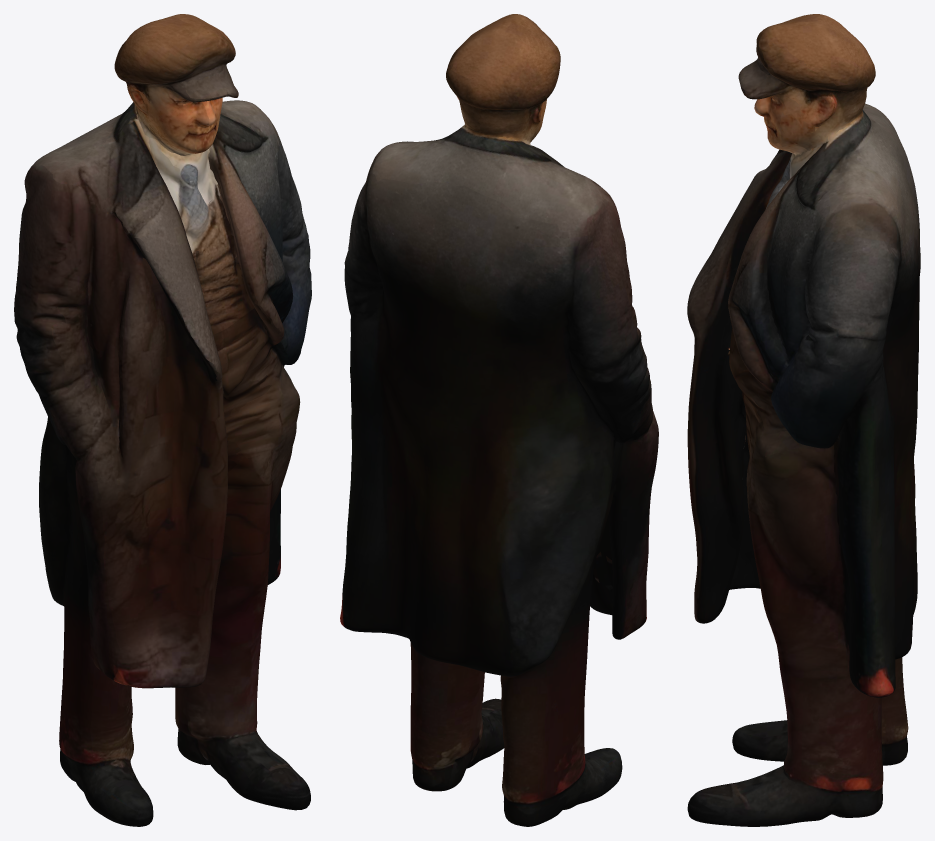
The model's file is Lenin-BLG_OMqb.glb.
3 views of the same model, side by side, from view 1: azimuth 30°, elevation 25°; view 2: azimuth 150°, elevation 25°; view 3: azimuth 270°, elevation 25° (orthographic).
Parts seen in each view (by area): view 1: textured_mesh.obj; view 2: textured_mesh.obj; view 3: textured_mesh.obj.
Boxes of the visible parts, left/top/right/bottom form: textured_mesh.obj: left=14, top=14, right=311, bottom=826; textured_mesh.obj: left=340, top=14, right=658, bottom=826; textured_mesh.obj: left=687, top=14, right=920, bottom=826.
Bounding box in the file's own units: 0.7806 × 1.99 × 0.5511.
Materials: 1 (1 with a texture image).
